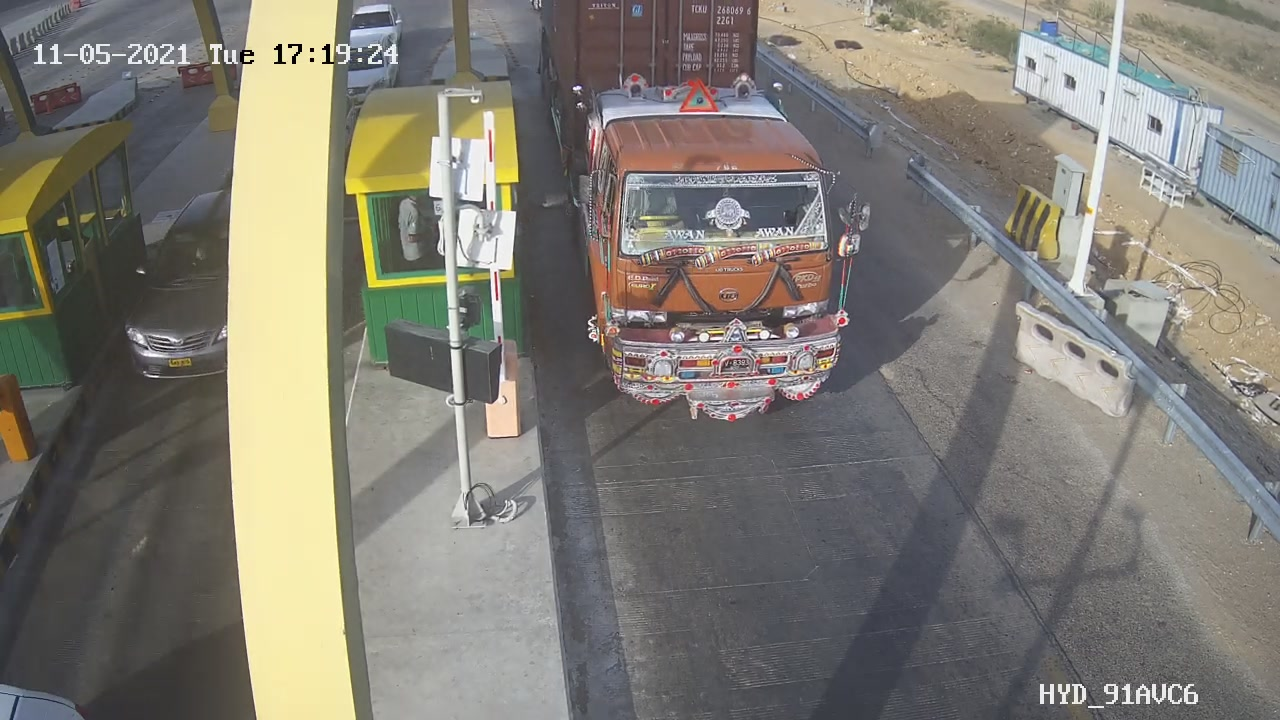F6: (520, 1, 898, 444)
